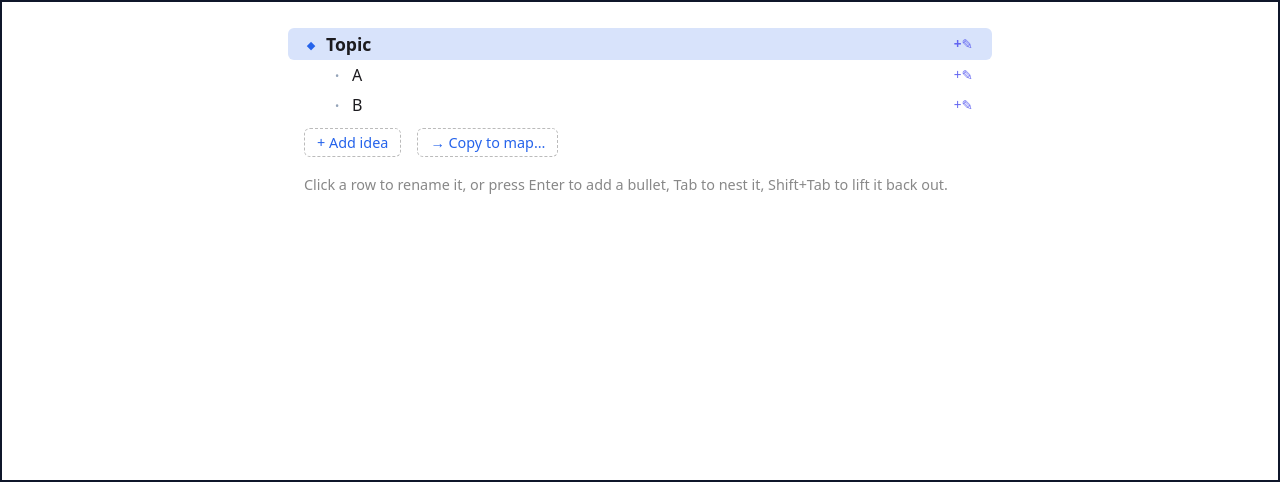
BrainstormOutliner › click-to-edit renames a row
Click the list item with test id "outliner-row-a".
click(337, 75)  # box [288,60,992,90]
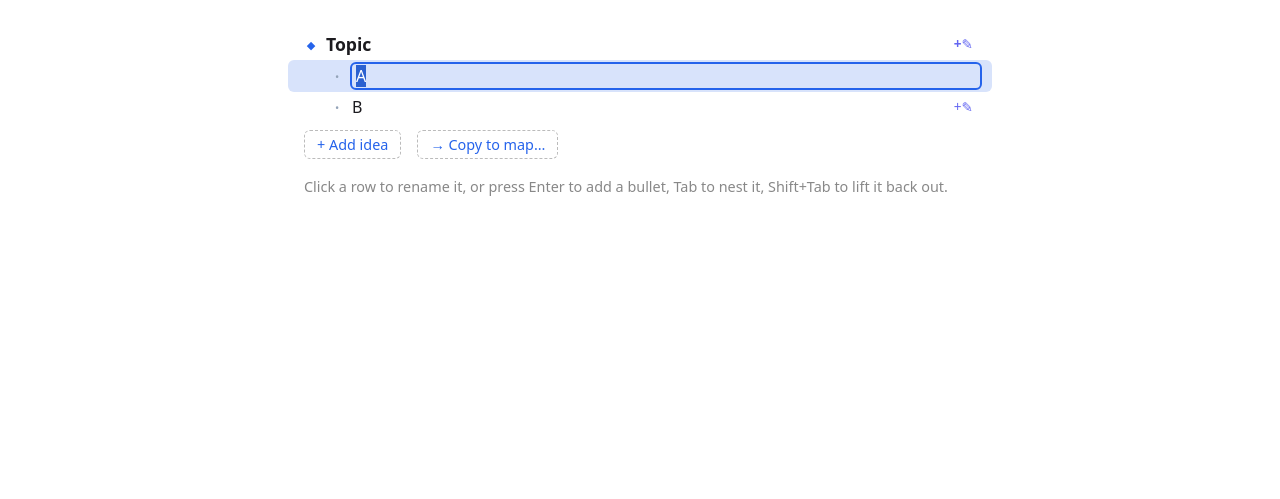
Replace the text in the field showing "A" with "Renamed" at {"x": 666, "y": 76}, box [352,64,980,88]
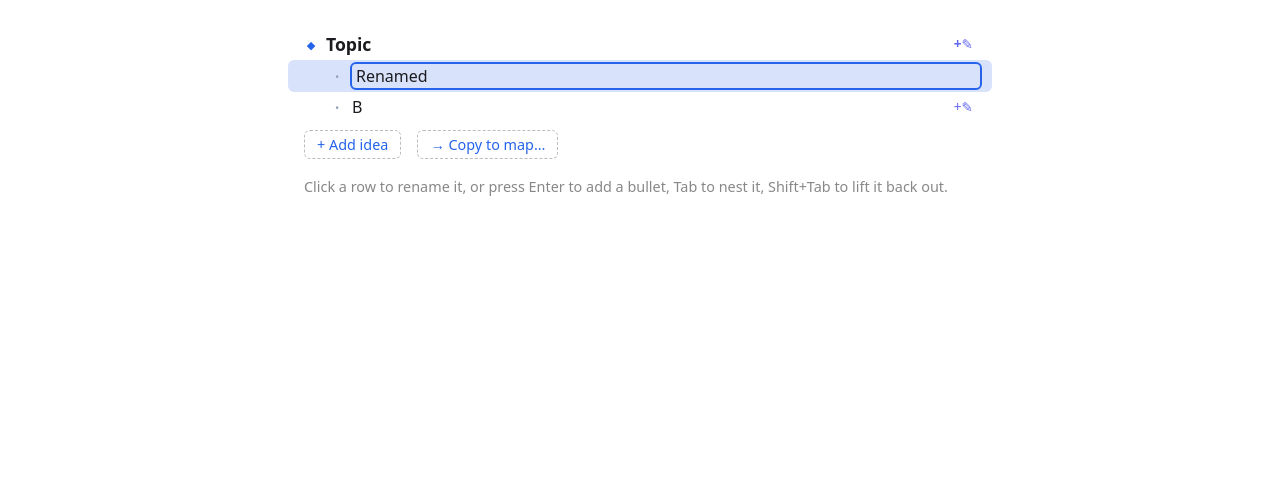
Press Enter in the field showing "A", box [352,64,980,88]
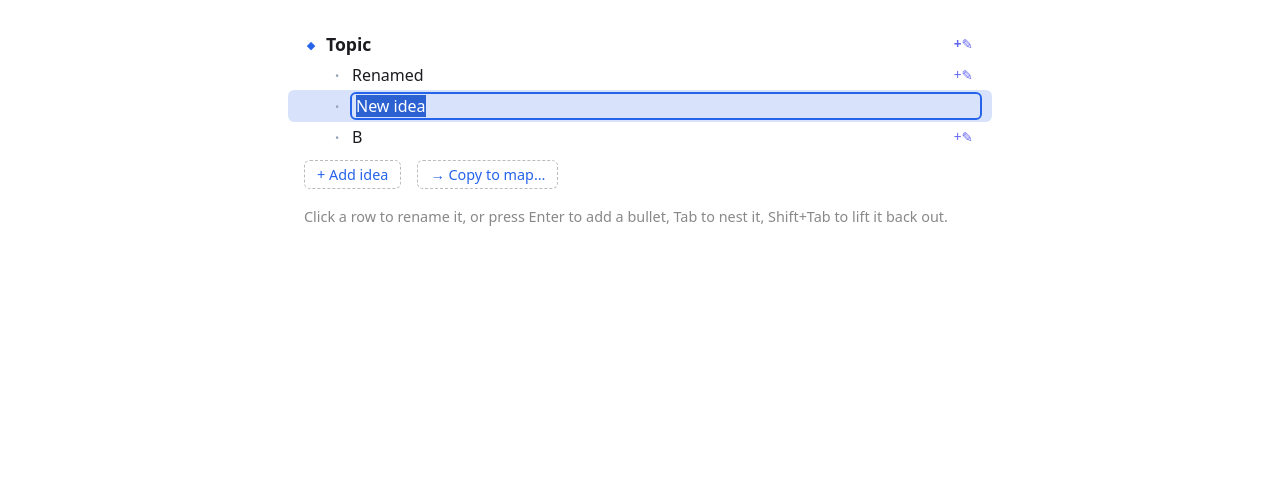
Check: the text "Renamed" is shown, box [352,64,424,86]
